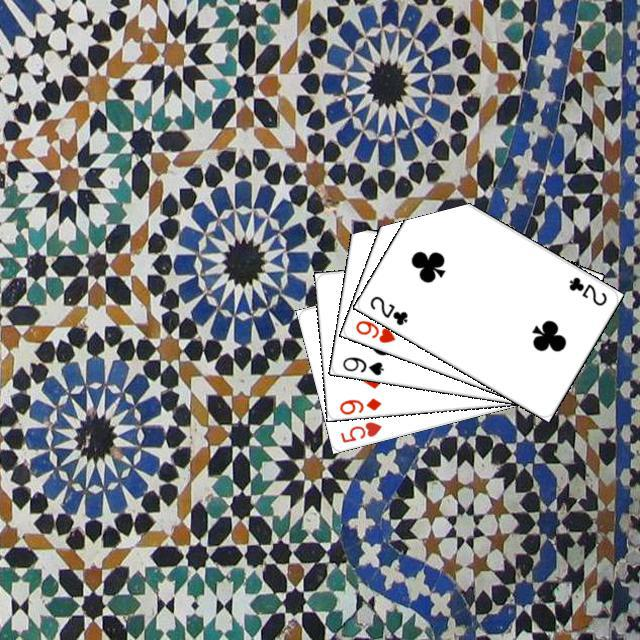2c: (365, 291, 410, 327), (564, 272, 609, 308)
5h: (335, 417, 383, 444)
9d: (335, 393, 383, 415)
9h: (350, 315, 397, 345)
9s: (338, 352, 385, 377)
